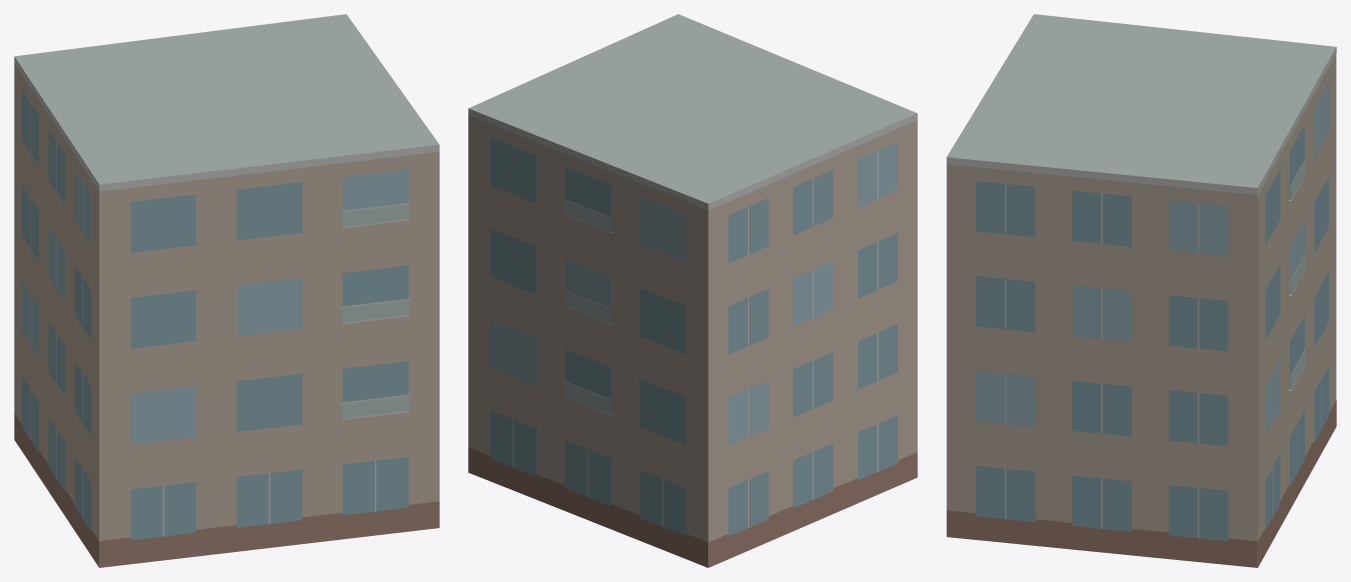
The model's file is survey-upis-32477268.glb.
3 renders of one model, left to right at view 1: azimuth 30°, elevation 25°; view 2: azimuth 150°, elevation 25°; view 3: azimuth 270°, elevation 25°, orthographic. The views are drawn at different scales.
Parts seen in each view (by area): view 1: survey-upis-32477268.tmp; view 2: survey-upis-32477268.tmp; view 3: survey-upis-32477268.tmp.
Part boxes in pixels (x1,y1,x2,y2): survey-upis-32477268.tmp: [14, 14, 439, 567]; survey-upis-32477268.tmp: [468, 14, 917, 567]; survey-upis-32477268.tmp: [946, 14, 1336, 567].
Size of the model in its own units: 12.89 by 13.1 by 12.2.
